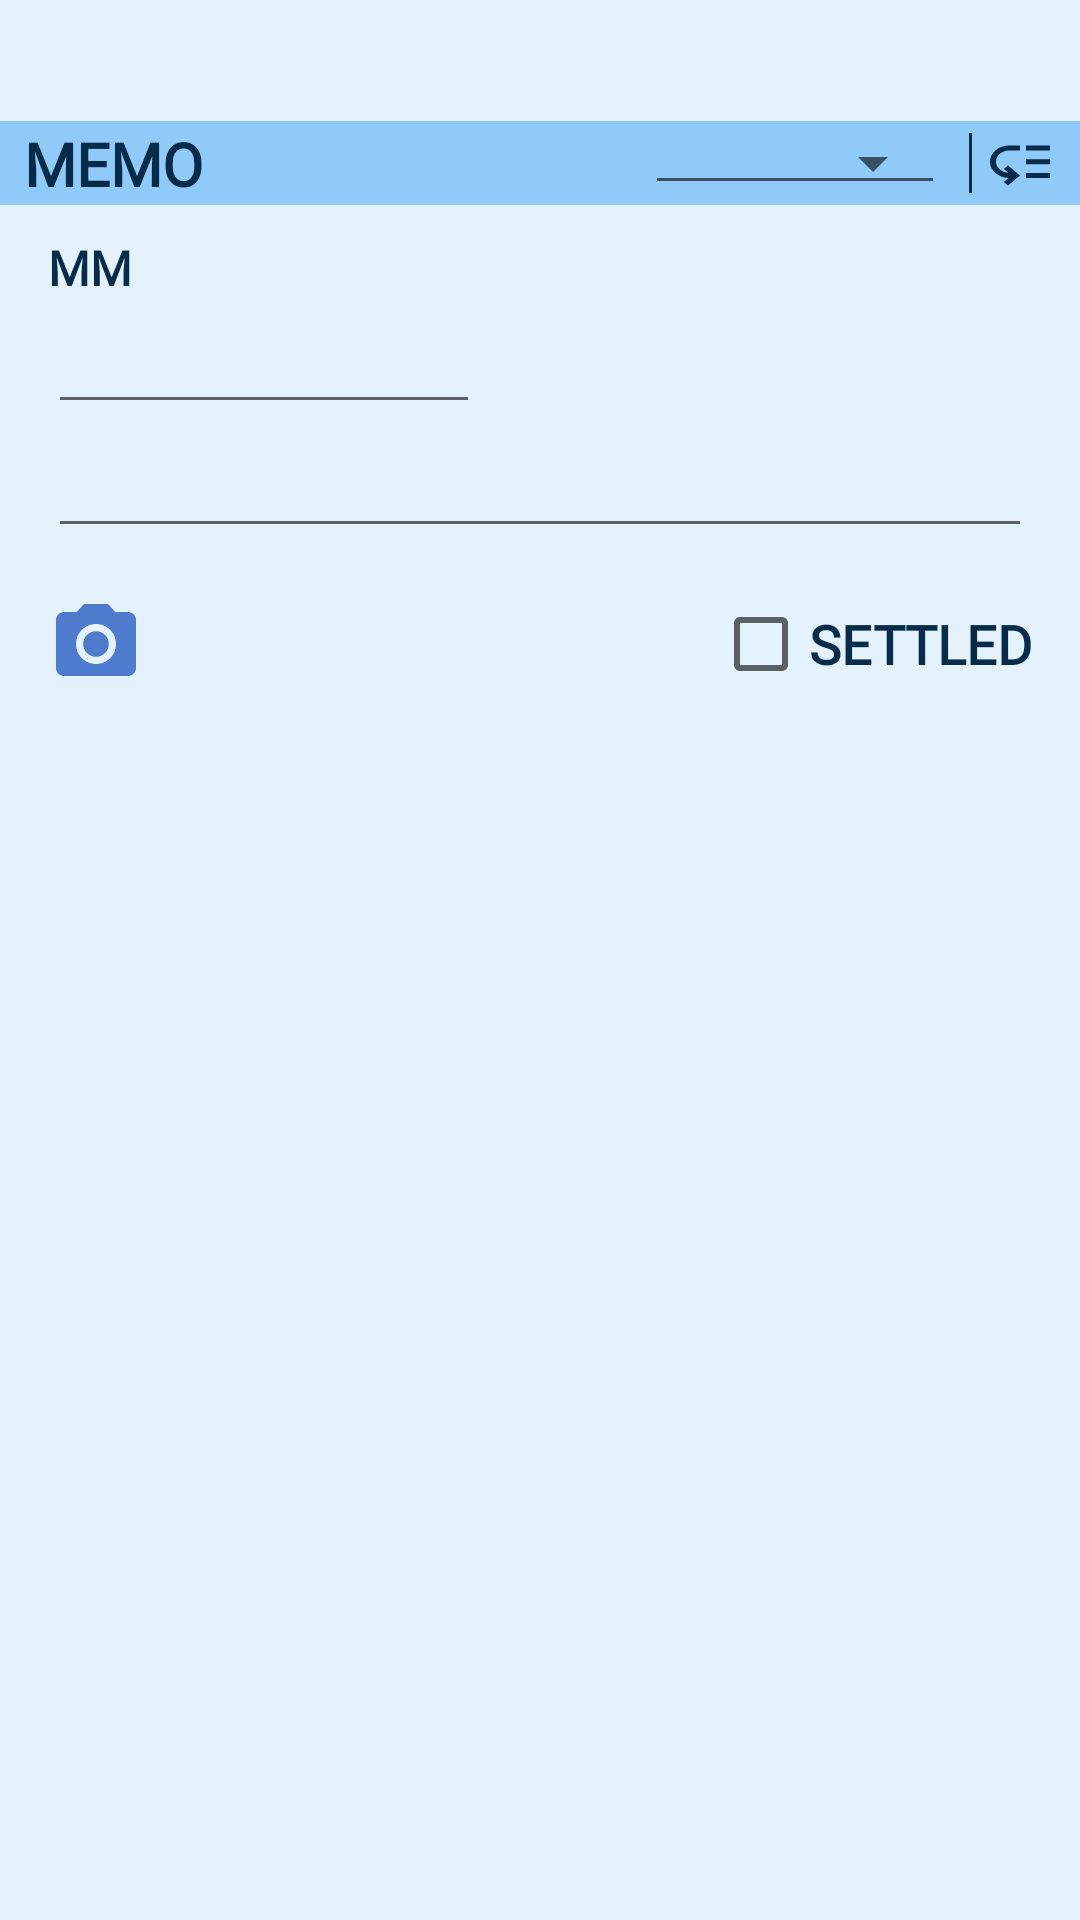

Where to tap for icons on this 1080×1920 app screen, as (x=x, y=y):
photo camera: (x=96, y=640)
